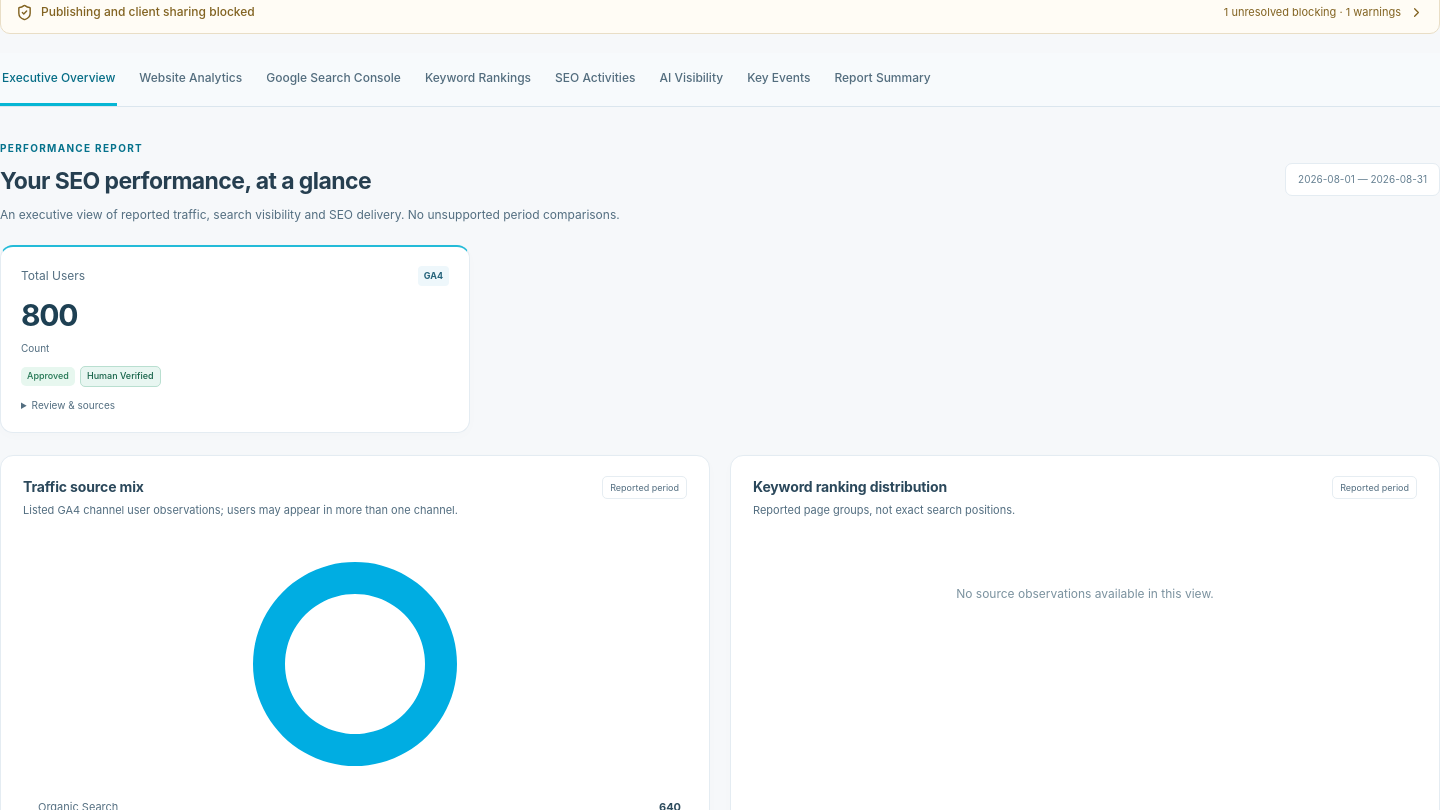
it: refined internal report dashboard › retains exact source and correction links and exposes warnings on demand
(page scrolled)
Expected: the text "800" is shown, [21, 297, 77, 333]
Step 1. Click the heading "Review & sources" → click(73, 405), box [32, 399, 115, 411]
(page scrolled)
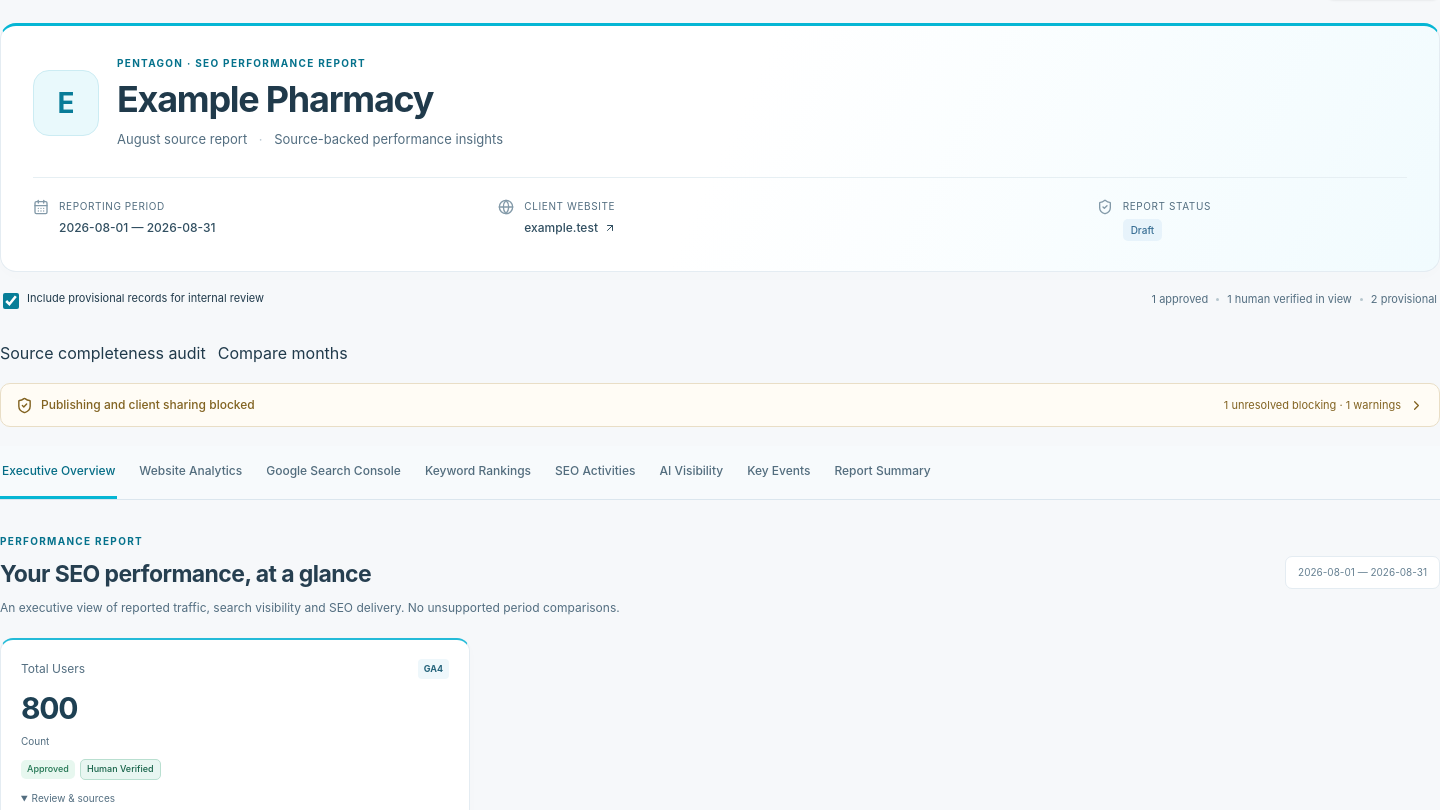
Step 2. Click the text "Publishing and client sharing blocked" → click(135, 405), box [16, 396, 255, 414]
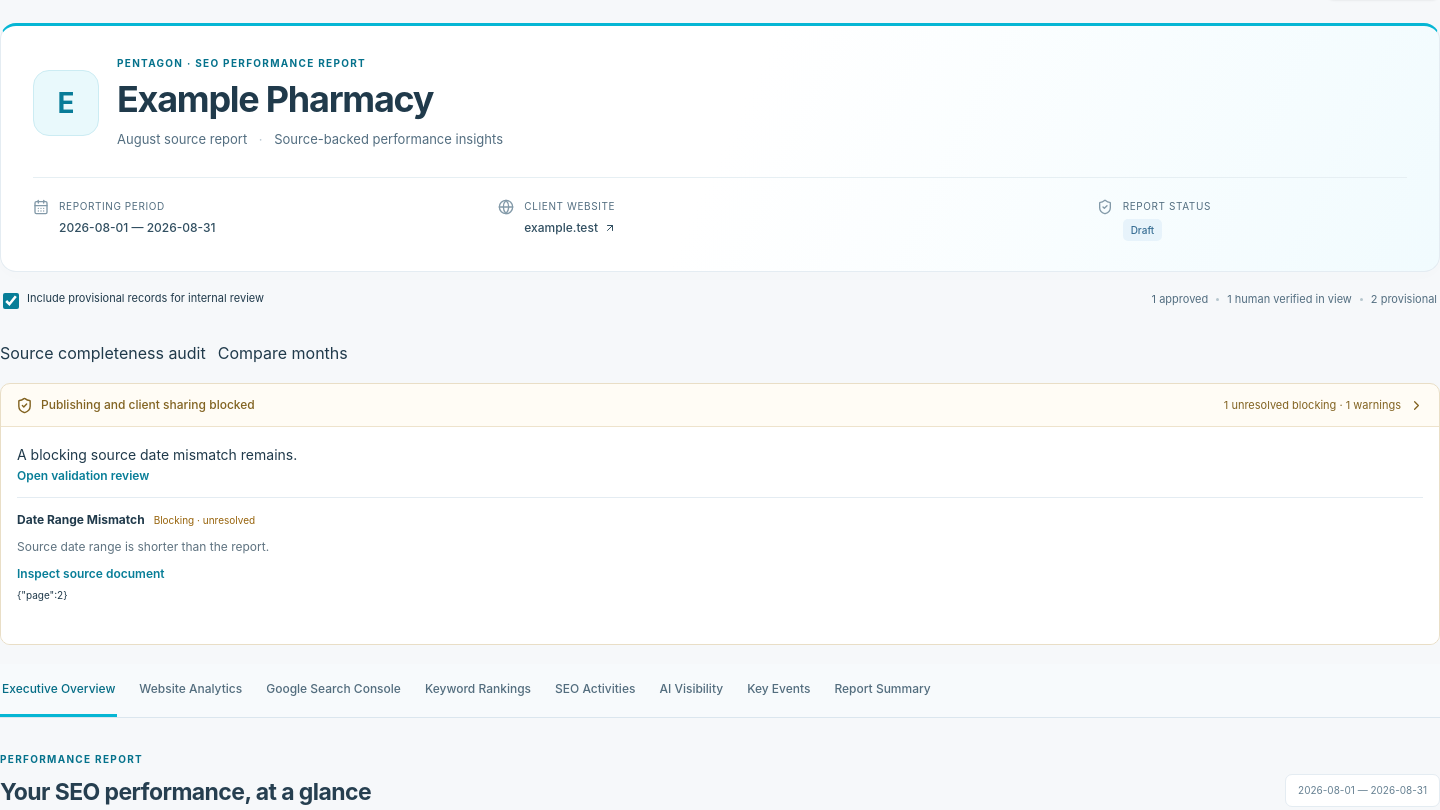
Expected: the text "Source date range is shorter than the report." is shown, [17, 539, 269, 554]
